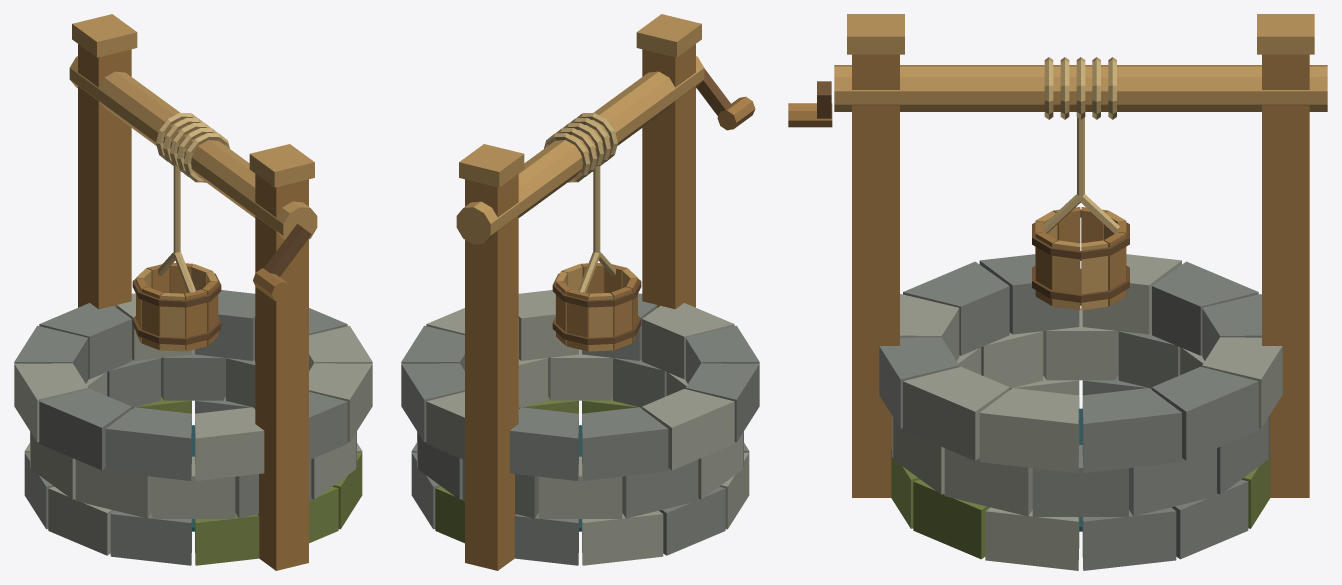
File: SM_FrontWell.fbx
3 views of the same model, side by side, from view 1: azimuth 30°, elevation 25°; view 2: azimuth 150°, elevation 25°; view 3: azimuth 270°, elevation 25° (orthographic). The views are drawn at different scales.
Parts seen in each view (by area): view 1: SM_FrontWell; view 2: SM_FrontWell; view 3: SM_FrontWell.
Part boxes in pixels (box(x1,y1,x2,y2)): SM_FrontWell: box(14, 14, 372, 570); SM_FrontWell: box(401, 14, 759, 570); SM_FrontWell: box(788, 14, 1327, 570).
Size of the model in its own units: 2.08 by 2.71 by 2.57.
